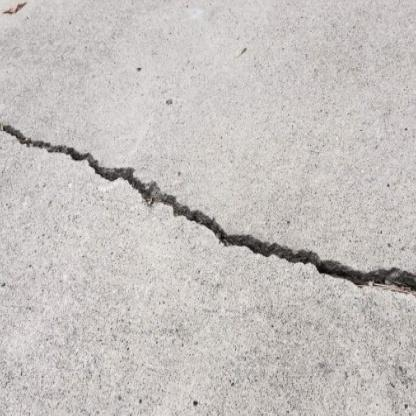Cracks: (0, 113, 416, 302)
